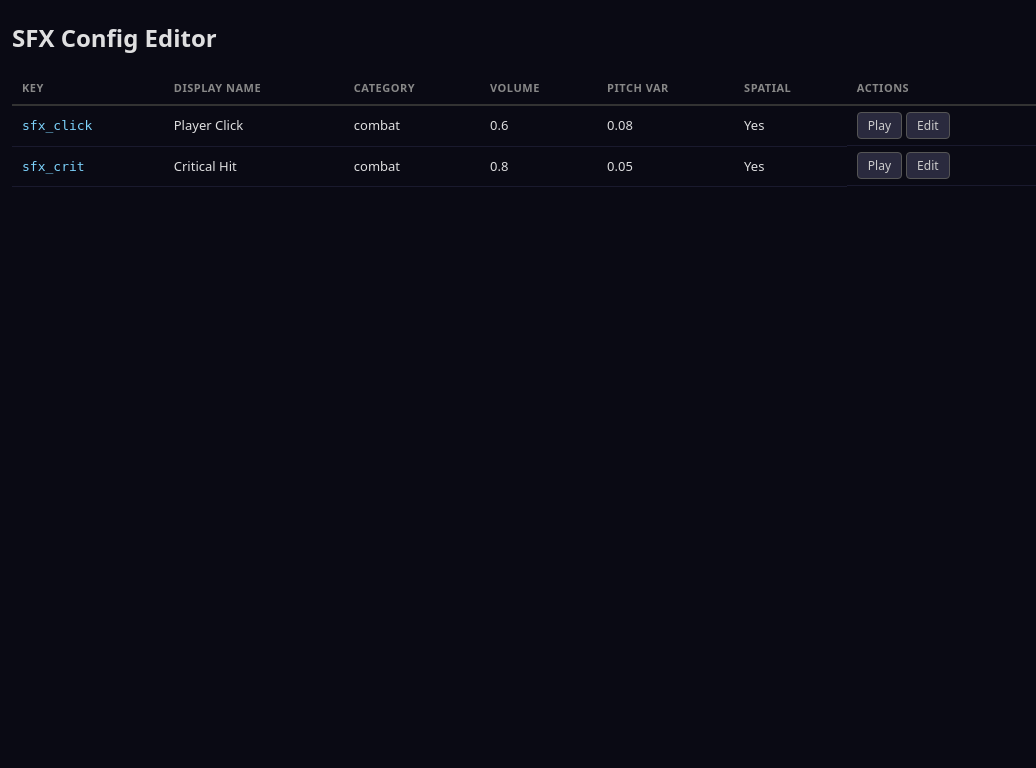
Test: SFXConfigEditor › shows edit panel when Edit button clicked
The image size is (1036, 768).
Expected: the text "sfx_click" is shown, [12,105,164,146]
Step 1. Click the button "Edit" in the row of "sfx_click" → coordinates (928, 126), box [906,112,950,139]
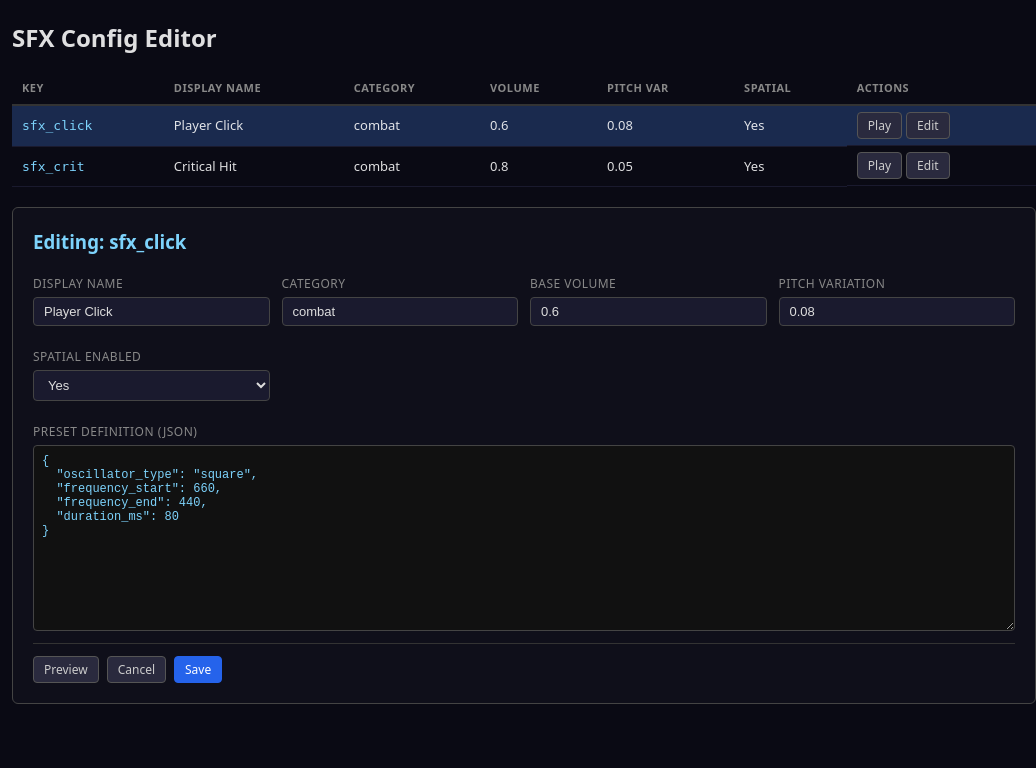
Now the heading "Editing: sfx_click" is shown, box [33,229,186,254]
Now the button "Save" is shown, box [174,656,222,683]
